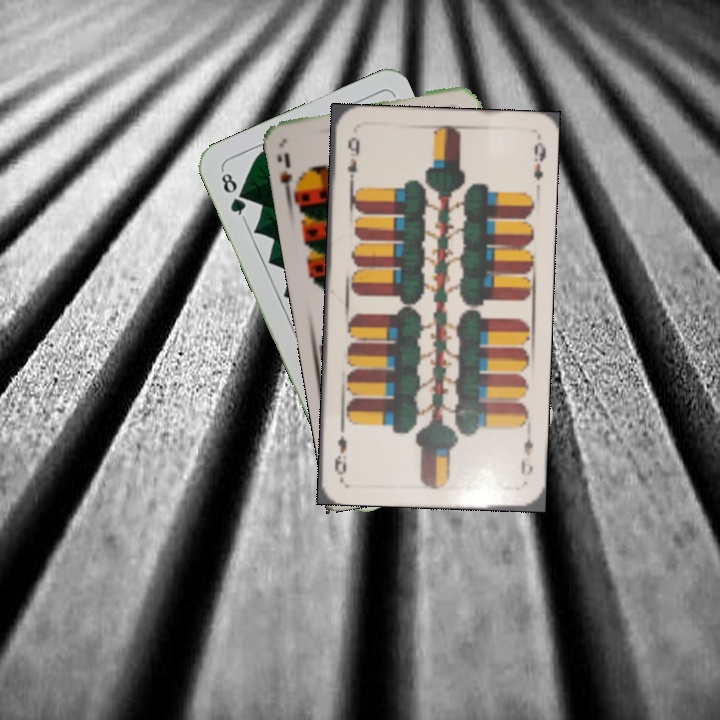E9: (516, 426, 536, 480), (343, 132, 362, 188)
G8: (217, 166, 249, 222)
S9: (273, 148, 305, 199)
